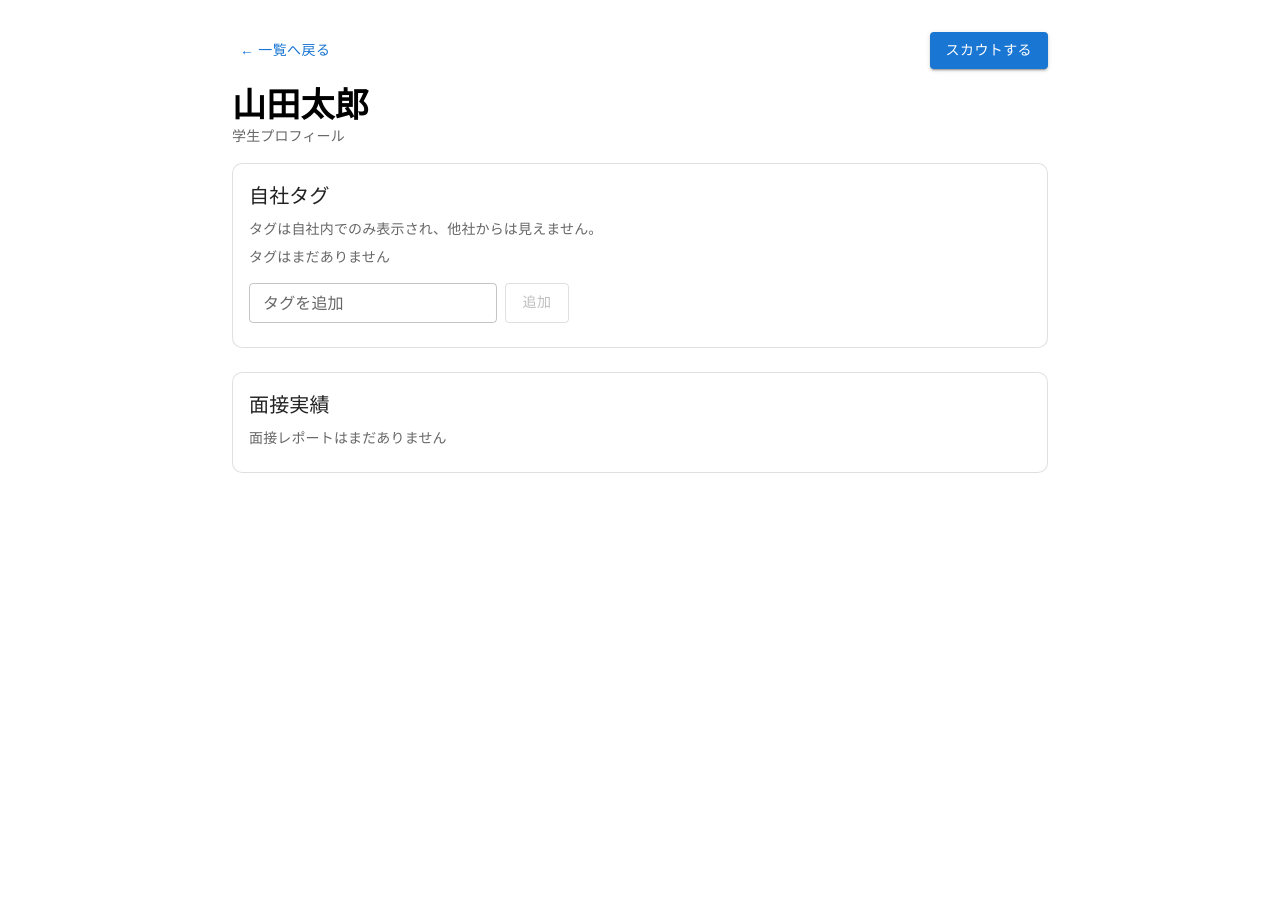
it: StudentDetailContent › 公開済み学生の氏名を見出しとスカウト文面に使う
Expected: the heading "山田太郎" is shown, [232,84,369,124]
Click the button "スカウトする" at (989, 50), box [930,32,1048,68]
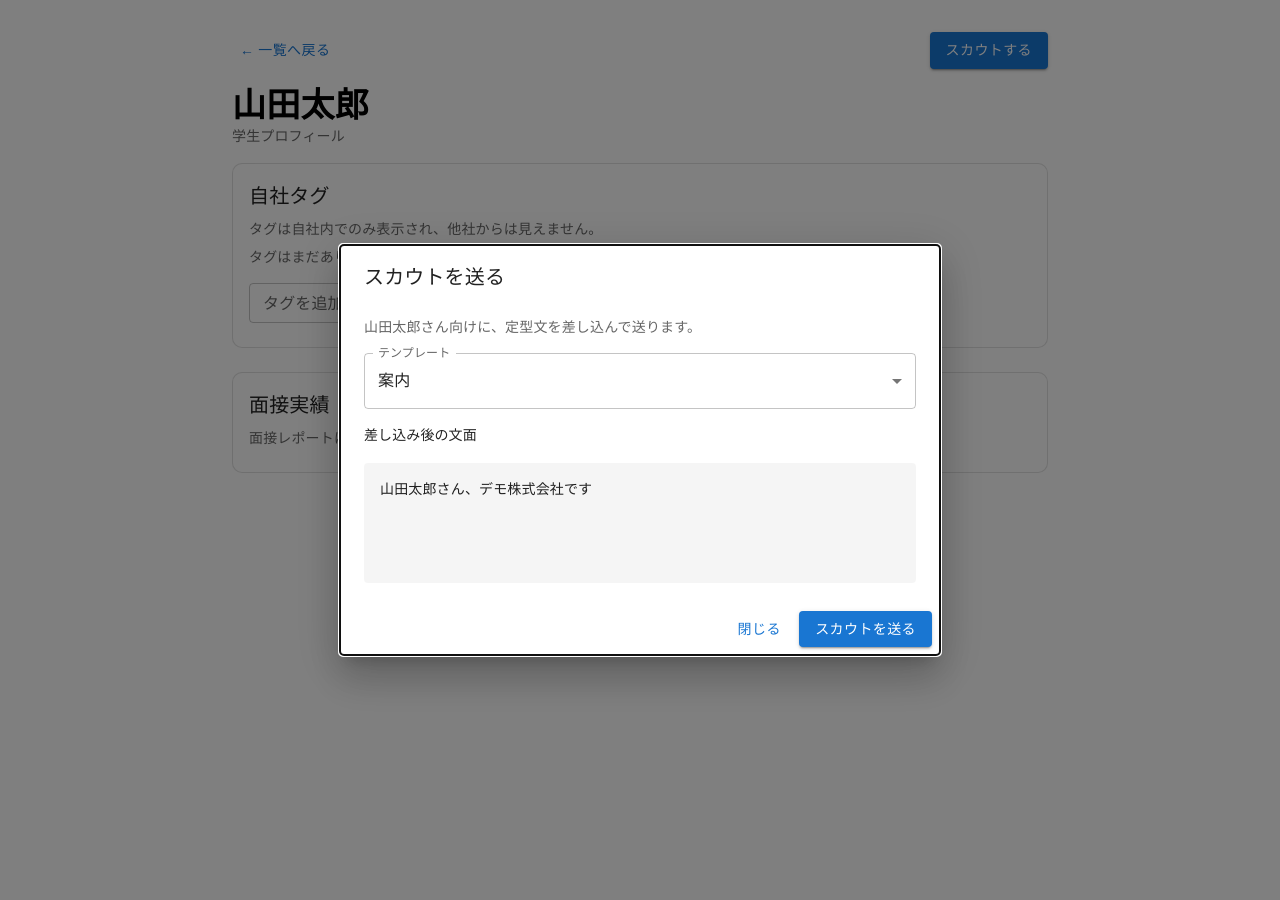
Now the text "山田太郎さん向けに、定型文を差し込んで送ります。" is shown, box [364,319,701,335]
Now the text "山田太郎さん、デモ株式会社です" is shown, box [364,463,916,583]
